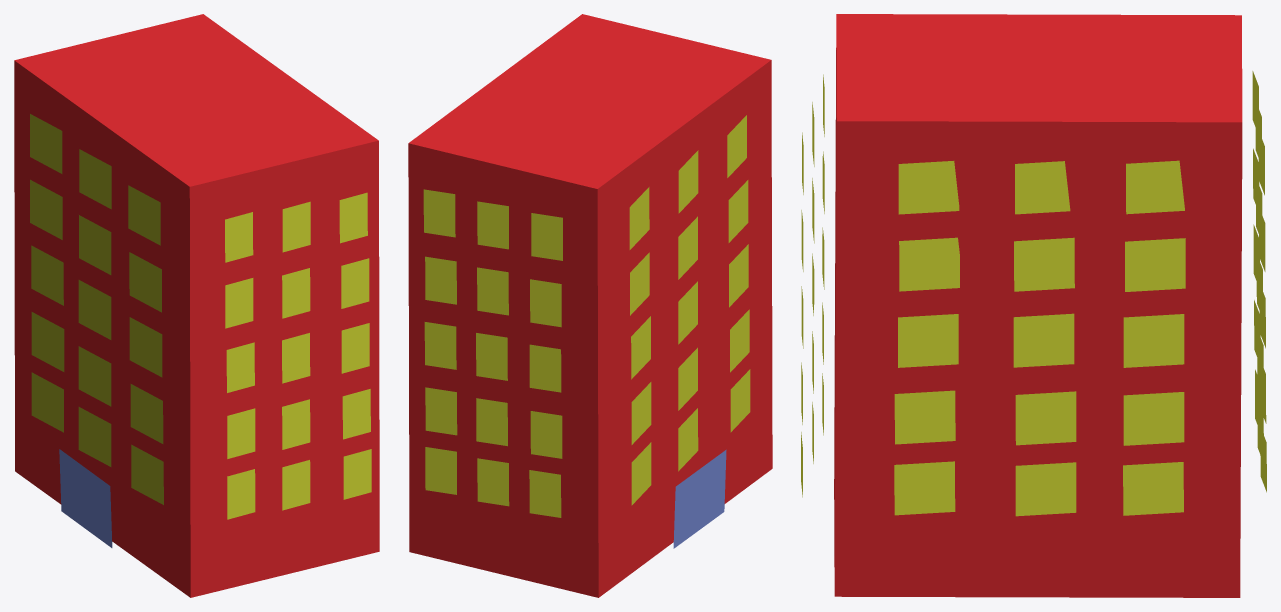
File: SmBuilding.fbx
The picture shows the model from 3 angles, left to right: view 1: azimuth 30°, elevation 25°; view 2: azimuth 150°, elevation 25°; view 3: azimuth 270°, elevation 25°; orthographic projection. The views are drawn at different scales.
Visible parts, largest first — view 1: Cube, Plane, Plane.008, Plane.010, Plane.007, Plane.013, Plane.009, Plane.011, Plane.001, Plane.014Front, Plane.012, Plane.006 (+20 smaller); view 2: Cube, Plane, Plane.039, Plane.042, Plane.031Left, Plane.045Left, Plane.037, Plane.040, Plane.044, Plane.038, Plane.036, Plane.034 (+20 smaller); view 3: Cube, Plane.017, Plane.023, Plane.019, Plane.022, Plane.020, Plane.021, Plane.018, Plane.026, Plane.024, Plane.025, Plane.016Back (+4 smaller).
Part boxes in pixels (x1=…): Cube: x1=14, y1=14, x2=379, y2=597; Plane: x1=59, y1=449, x2=112, y2=547; Plane.008: x1=129, y1=317, x2=162, y2=377; Plane.010: x1=78, y1=346, x2=111, y2=406; Plane.007: x1=78, y1=280, x2=111, y2=339; Plane.013: x1=78, y1=407, x2=111, y2=466; Plane.009: x1=31, y1=312, x2=64, y2=371; Plane.011: x1=130, y1=384, x2=163, y2=443; Plane.001: x1=79, y1=149, x2=111, y2=209; Plane.014Front: x1=131, y1=444, x2=163, y2=504; Plane.012: x1=31, y1=372, x2=63, y2=432; Plane.006: x1=31, y1=245, x2=63, y2=305; Cube: x1=408, y1=14, x2=772, y2=597; Plane: x1=673, y1=449, x2=726, y2=548; Plane.039: x1=529, y1=344, x2=561, y2=392; Plane.042: x1=530, y1=411, x2=562, y2=458; Plane.031Left: x1=423, y1=189, x2=455, y2=237; Plane.045Left: x1=529, y1=470, x2=561, y2=517; Plane.037: x1=424, y1=322, x2=456, y2=369; Plane.040: x1=425, y1=387, x2=457, y2=435; Plane.044: x1=477, y1=458, x2=509, y2=506; Plane.038: x1=476, y1=333, x2=507, y2=380; Plane.036: x1=530, y1=279, x2=561, y2=327; Plane.034: x1=425, y1=256, x2=456, y2=304; Cube: x1=834, y1=14, x2=1242, y2=597; Plane.017: x1=1015, y1=462, x2=1076, y2=516; Plane.023: x1=1013, y1=313, x2=1074, y2=367; Plane.019: x1=1123, y1=392, x2=1184, y2=445; Plane.022: x1=1123, y1=314, x2=1184, y2=367; Plane.020: x1=1015, y1=391, x2=1076, y2=445; Plane.021: x1=894, y1=390, x2=955, y2=444; Plane.018: x1=894, y1=461, x2=955, y2=515; Plane.026: x1=1014, y1=237, x2=1074, y2=291; Plane.024: x1=898, y1=314, x2=958, y2=367; Plane.025: x1=1125, y1=238, x2=1185, y2=291; Plane.016Back: x1=1123, y1=462, x2=1183, y2=515.
Bounding box in the file's own units: 229 × 416 × 368.
